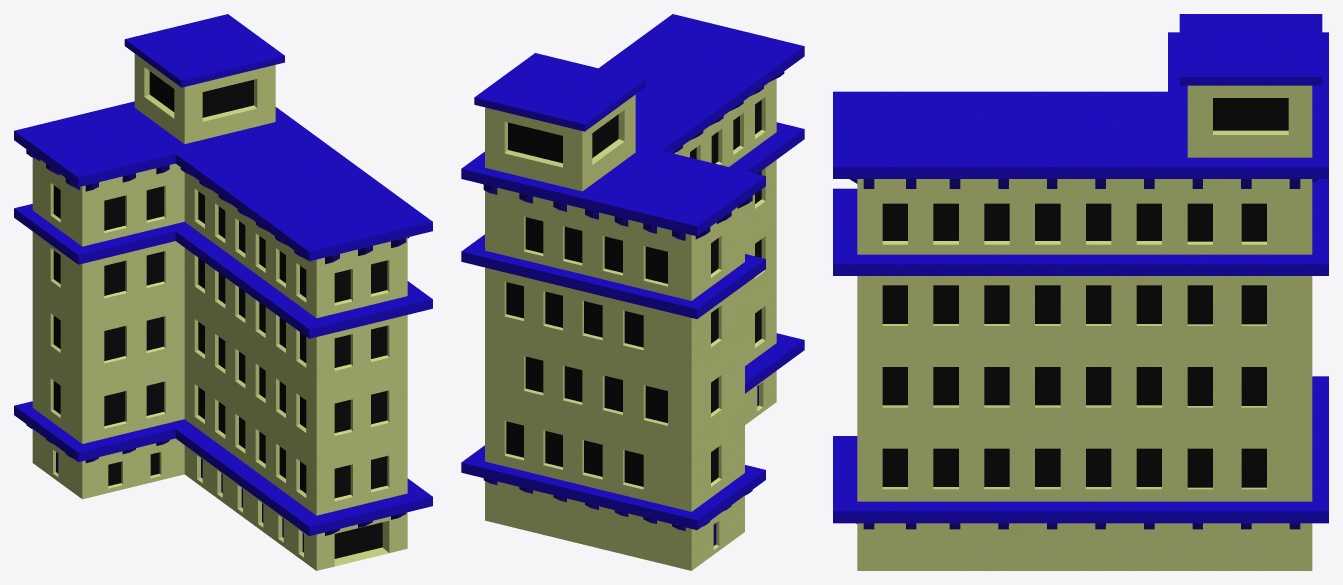
The model's file is house3.FBX.
3 views of the same model, side by side, from view 1: azimuth 30°, elevation 25°; view 2: azimuth 150°, elevation 25°; view 3: azimuth 270°, elevation 25° (orthographic). The views are drawn at different scales.
Parts seen in each view (by area): view 1: Box001, Box003, Object001, Box005, Box004, Box105; view 2: Box001, Box003, Object001, Box105, Box004, Box005; view 3: Box001, Box003, Object001, Box005, Box004, Box105.
Boxes of the visible parts, x1=… form: Box001: x1=32, y1=53, x2=407, y2=570; Box003: x1=14, y1=101, x2=432, y2=261; Object001: x1=53, y1=71, x2=387, y2=558; Box005: x1=14, y1=401, x2=432, y2=536; Box004: x1=14, y1=204, x2=432, y2=338; Box105: x1=124, y1=14, x2=284, y2=87; Box001: x1=485, y1=78, x2=776, y2=570; Box003: x1=461, y1=14, x2=804, y2=236; Object001: x1=506, y1=100, x2=761, y2=545; Box105: x1=474, y1=53, x2=645, y2=131; Box004: x1=461, y1=122, x2=804, y2=318; Box005: x1=461, y1=333, x2=804, y2=529; Box001: x1=857, y1=85, x2=1312, y2=570; Box003: x1=833, y1=32, x2=1328, y2=178; Object001: x1=882, y1=98, x2=1288, y2=487; Box005: x1=833, y1=376, x2=1328, y2=523; Box004: x1=833, y1=179, x2=1328, y2=275; Box105: x1=1179, y1=14, x2=1322, y2=85.
Size of the model in its own units: 841 by 1446 by 1306.
